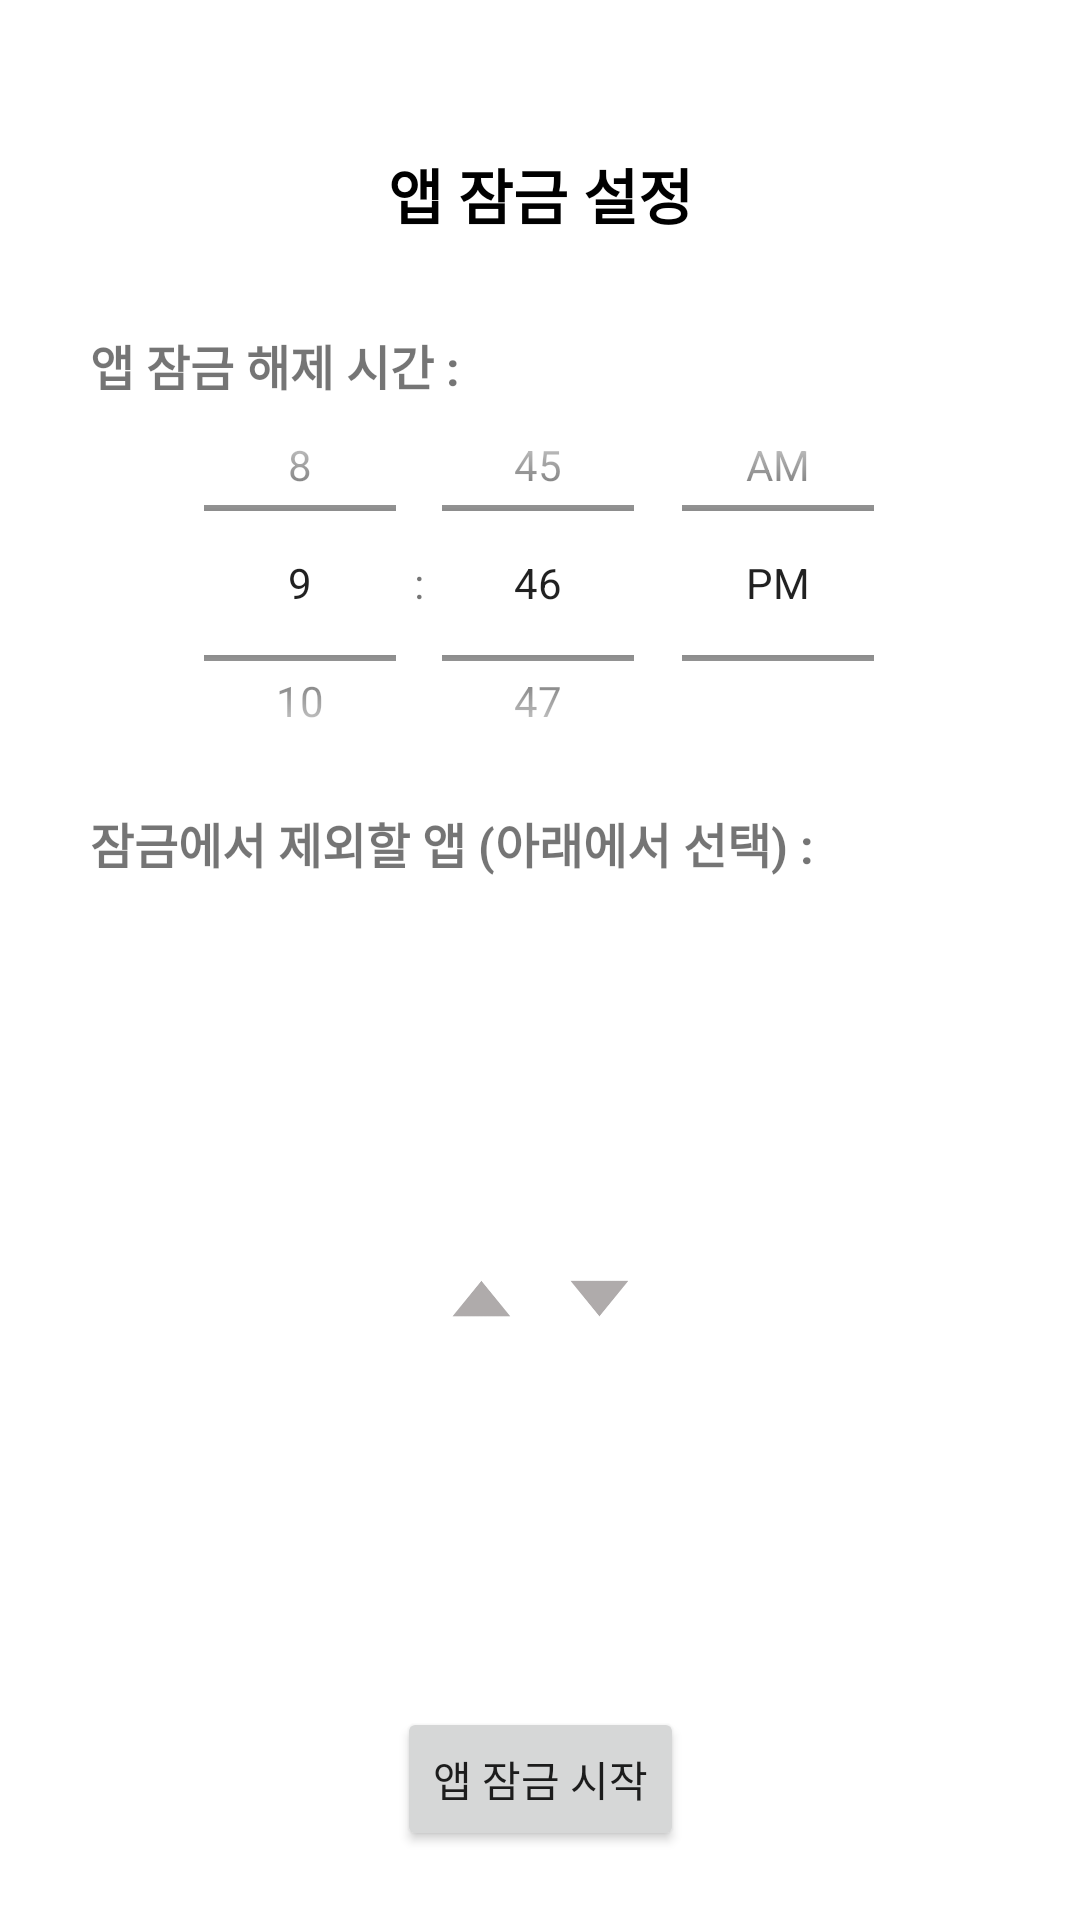

Icons on this 1080 x 1920 Android screen, each with the point to tap as point (x, y):
updown: point (540, 1299)
